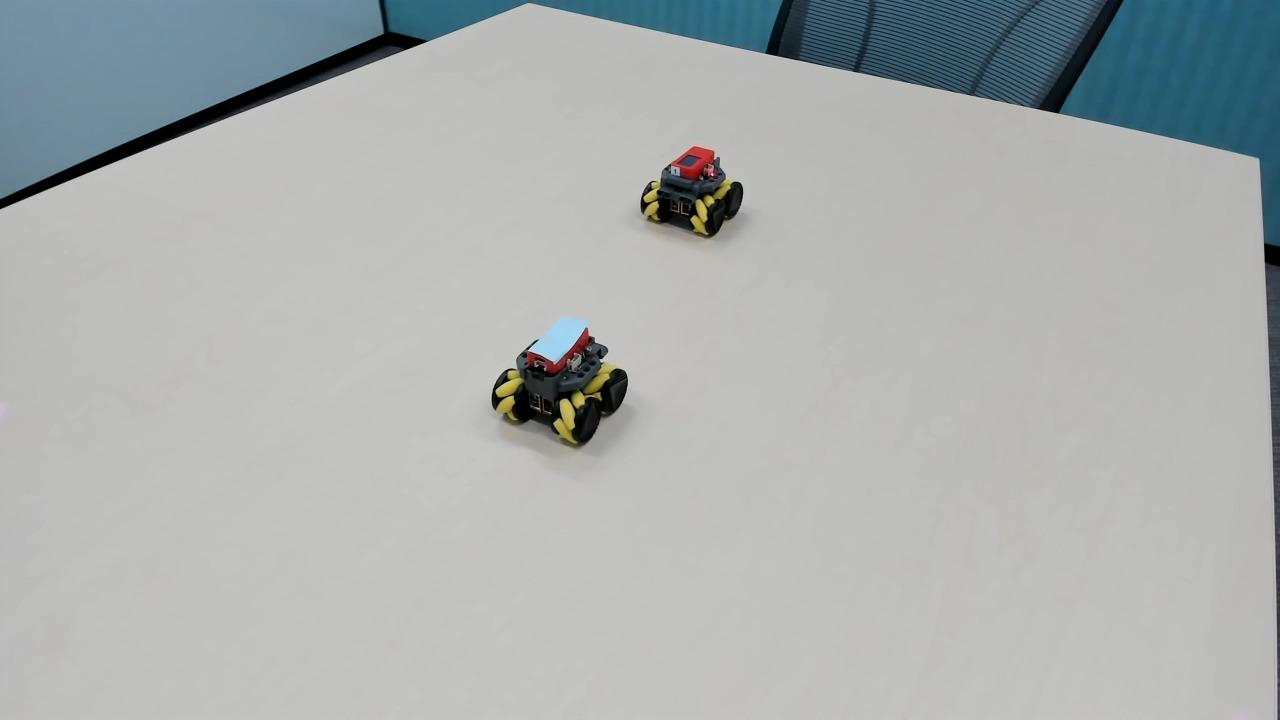B-Robot: (476, 308, 649, 479)
R-Robot: (631, 134, 753, 253)
